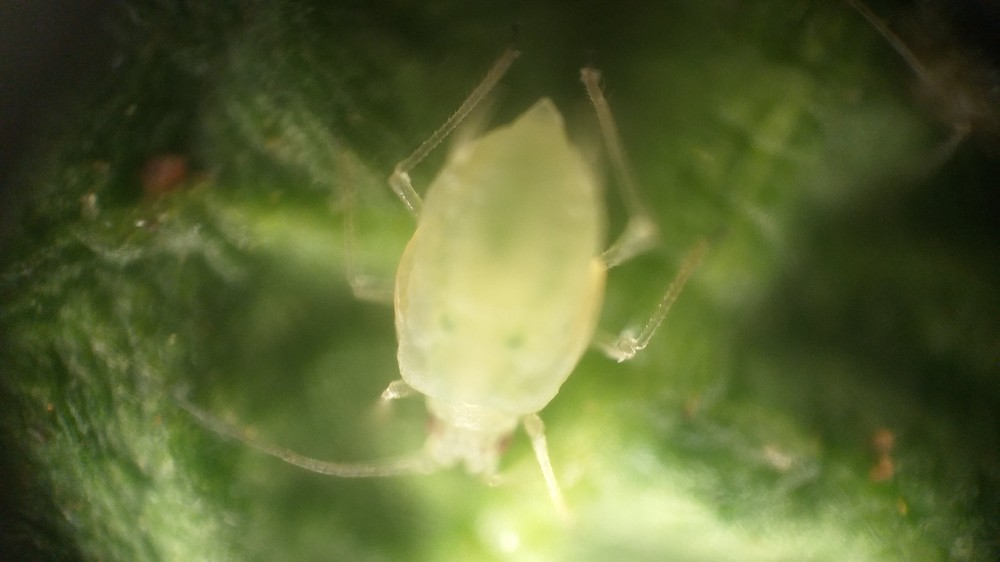Pulgon: (221, 37, 757, 557)
